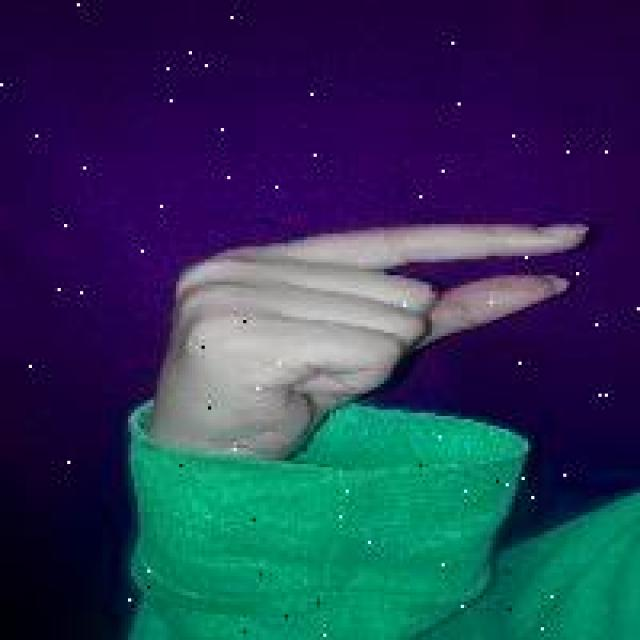G: (152, 214, 603, 436)
